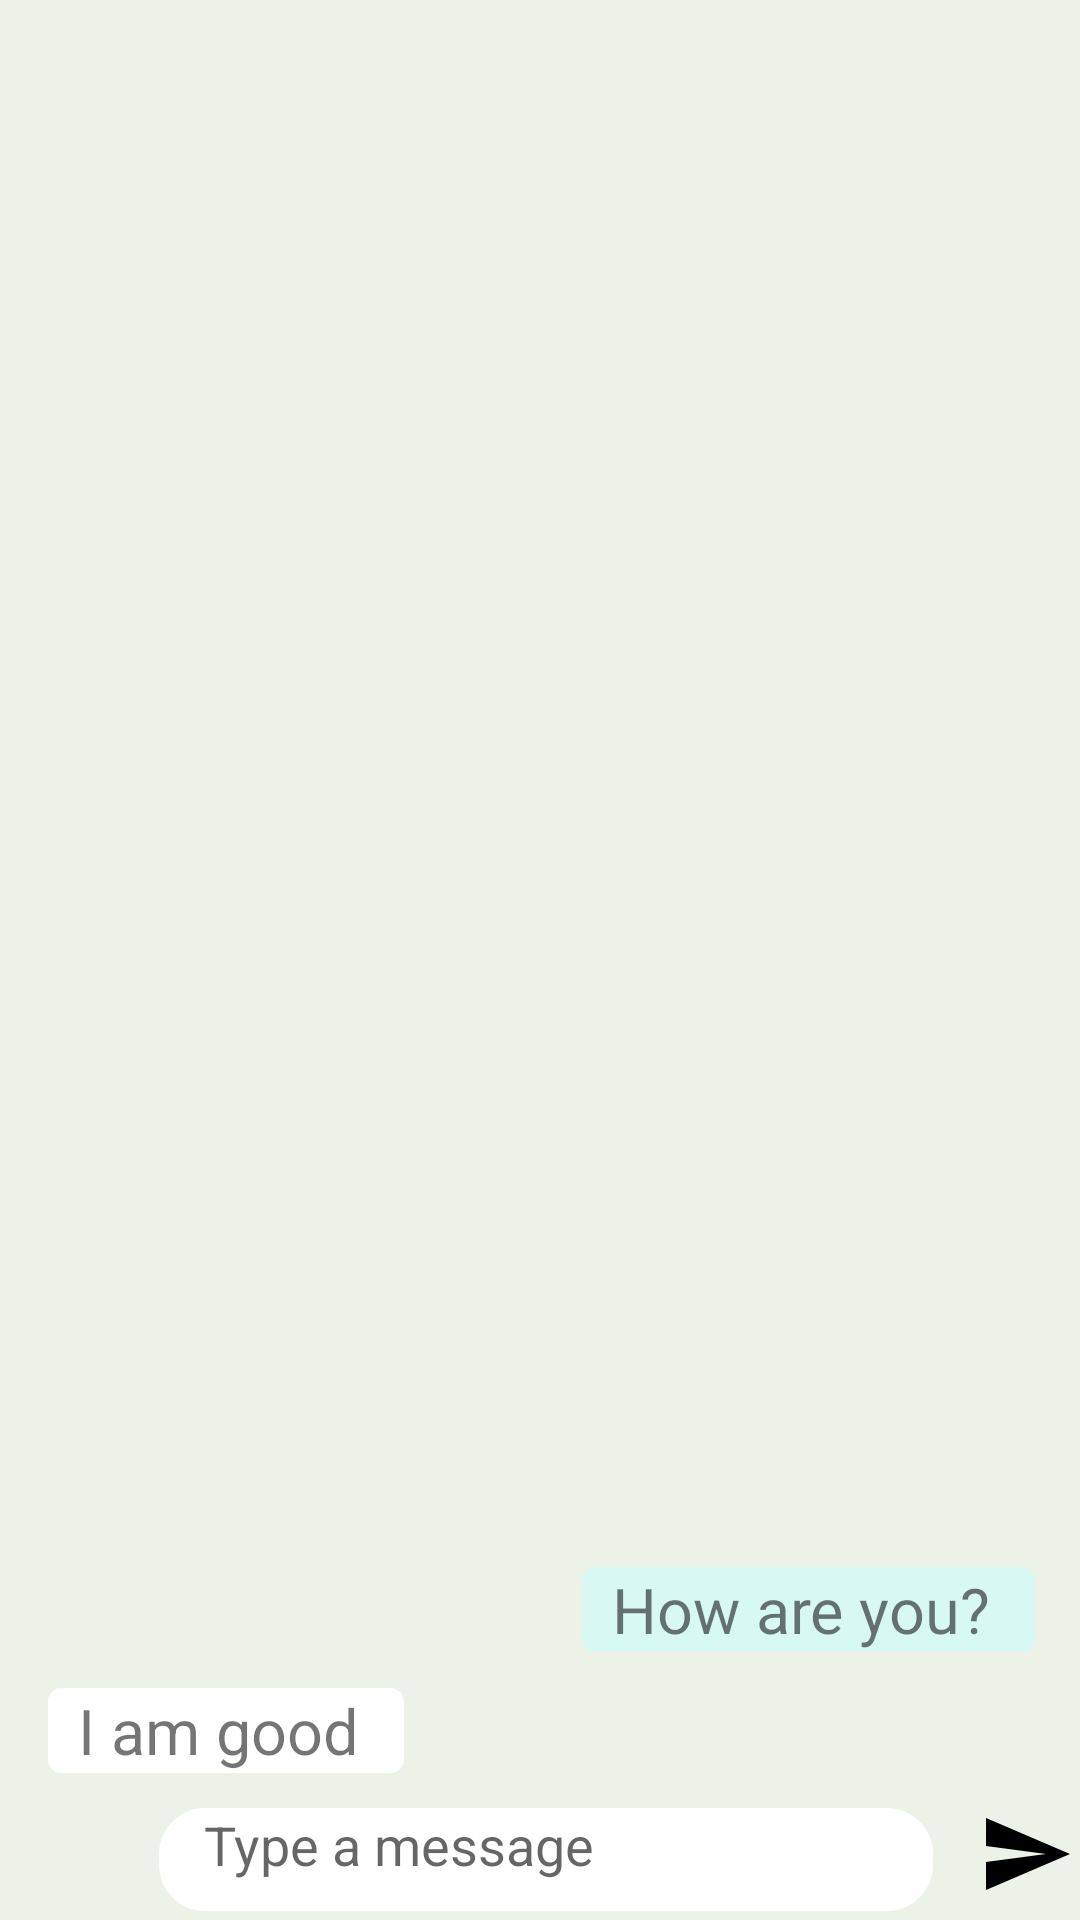

Point at icon controls on the screen. Image size 1080 x 1920, points as point (x, y).
send: point (1028, 1854)
